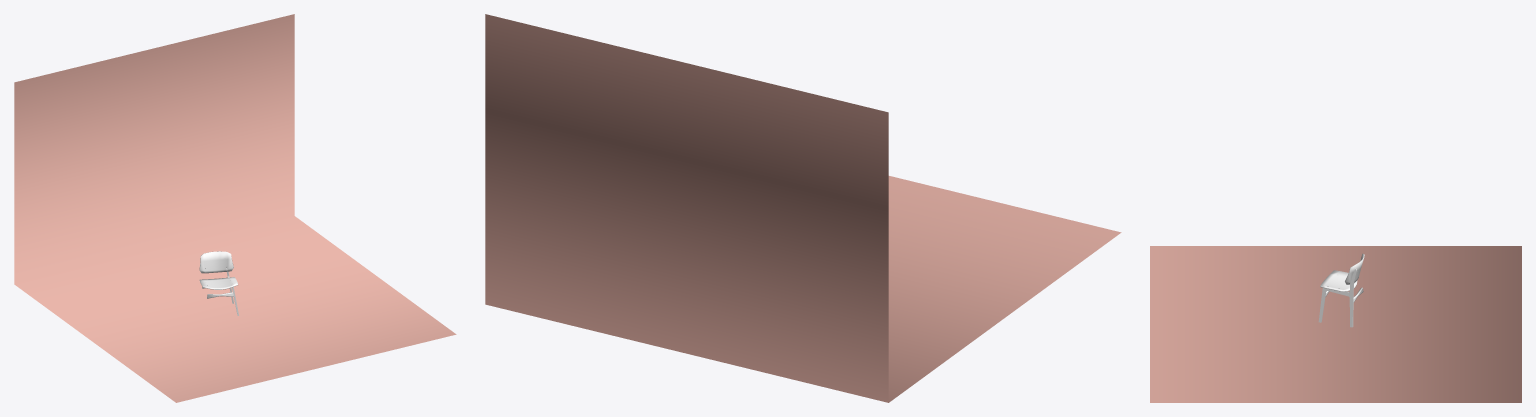
File: ghe_ar_2025_10_09_12_08_52_8B04w4.glb
3 renders of one model, left to right at view 1: azimuth 30°, elevation 25°; view 2: azimuth 150°, elevation 25°; view 3: azimuth 270°, elevation 25°, orthographic. The views are drawn at different scales.
Parts seen in each view (by area): view 1: Plane, ChairSoborg_Back, ChairSoborg_Seat; view 2: Plane; view 3: Plane, ChairSoborg_Base, ChairSoborg_Seat.
Part boxes in pixels (x1,y1,x2,y2): Plane: [14, 14, 456, 402]; ChairSoborg_Back: [199, 251, 233, 273]; ChairSoborg_Seat: [199, 277, 238, 289]; Plane: [485, 14, 1121, 402]; Plane: [1150, 246, 1521, 402]; ChairSoborg_Base: [1318, 268, 1356, 327]; ChairSoborg_Seat: [1320, 270, 1357, 291].
Bounding box in the file's own units: 4.53 × 3.12 × 4.53.
